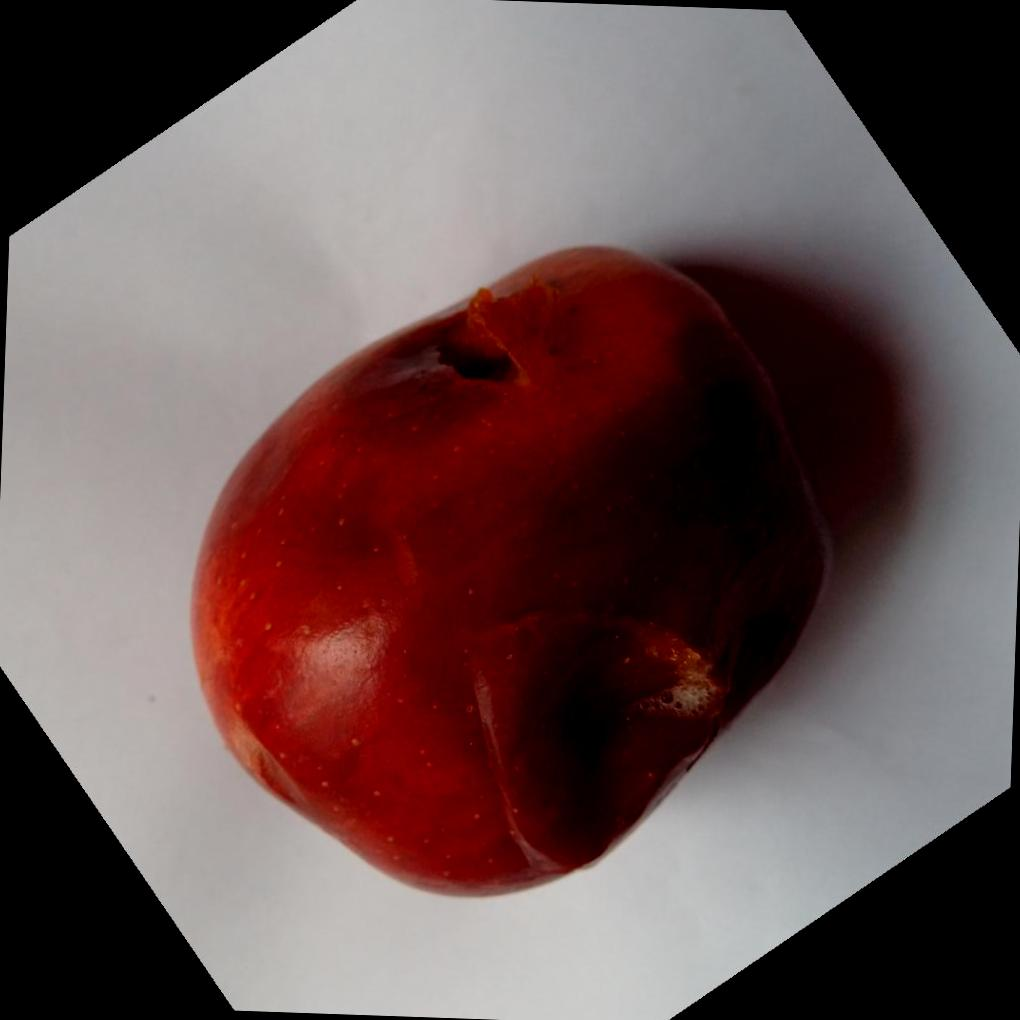FreshOrange: (191, 243, 840, 897)
